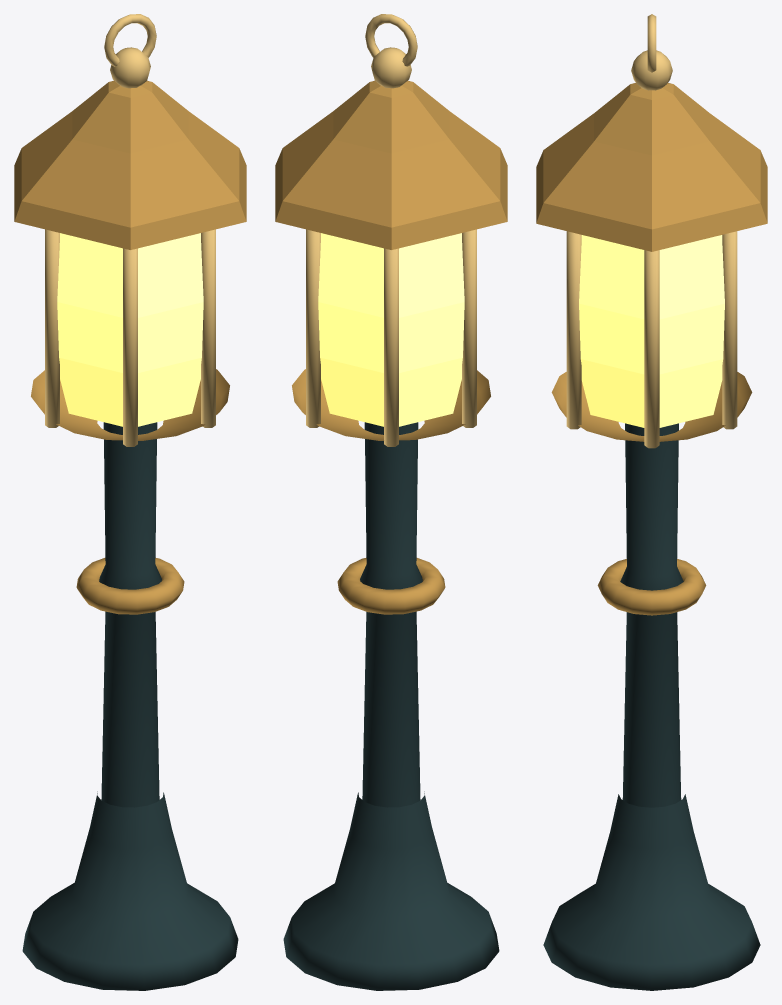
The model's file is lantern.glb.
3 renders of one model, left to right at view 1: azimuth 30°, elevation 25°; view 2: azimuth 150°, elevation 25°; view 3: azimuth 270°, elevation 25°, orthographic.
Visible parts, largest first — view 1: clock-lantern.001; view 2: clock-lantern.001; view 3: clock-lantern.001.
Boxes of the visible parts, x1,y1,x2,y2 form: clock-lantern.001: (14,14,246,990); clock-lantern.001: (275,14,507,990); clock-lantern.001: (536,14,767,990).
Bounding box in the file's own units: 0.64 × 2.45 × 0.5543.
